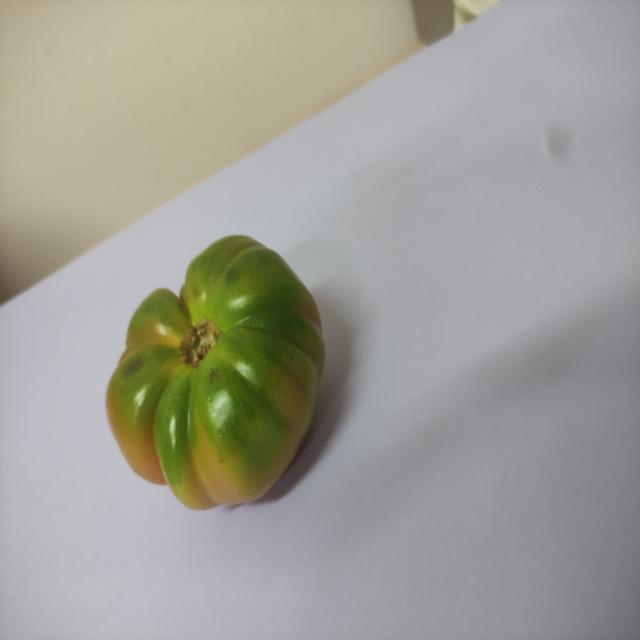yesil: (91, 229, 357, 514)
